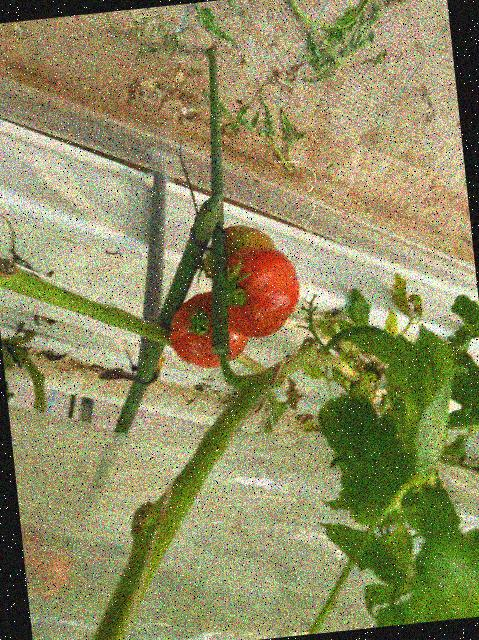b_fully_ripened: (218, 243, 304, 341), (165, 287, 252, 373)
b_half_ripened: (201, 220, 280, 291)
